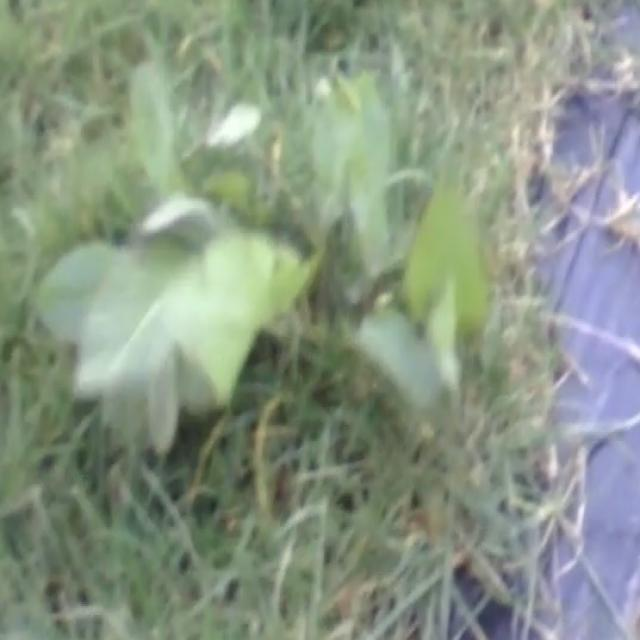organic waste: (61, 38, 556, 450)
